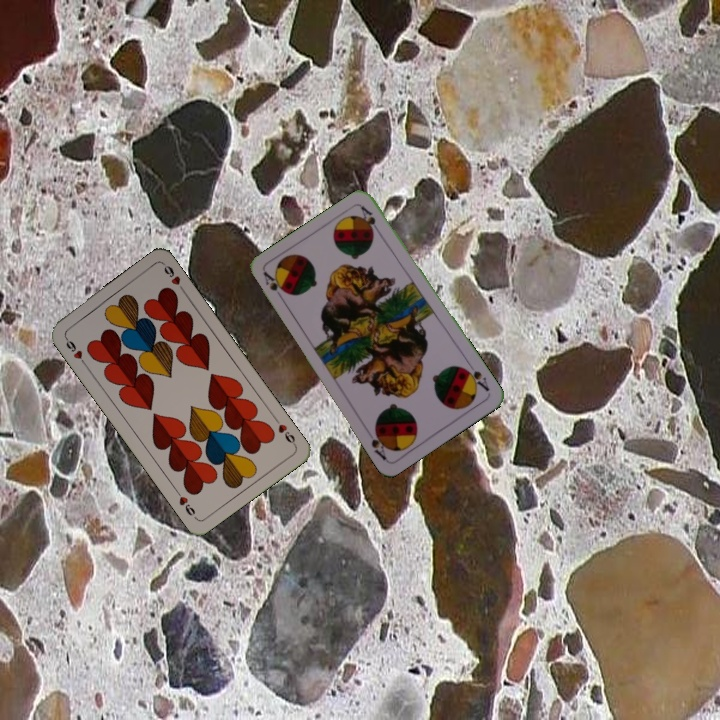H9: (270, 413, 299, 449), (60, 333, 89, 368)
SA: (459, 360, 492, 394), (259, 268, 288, 304)
